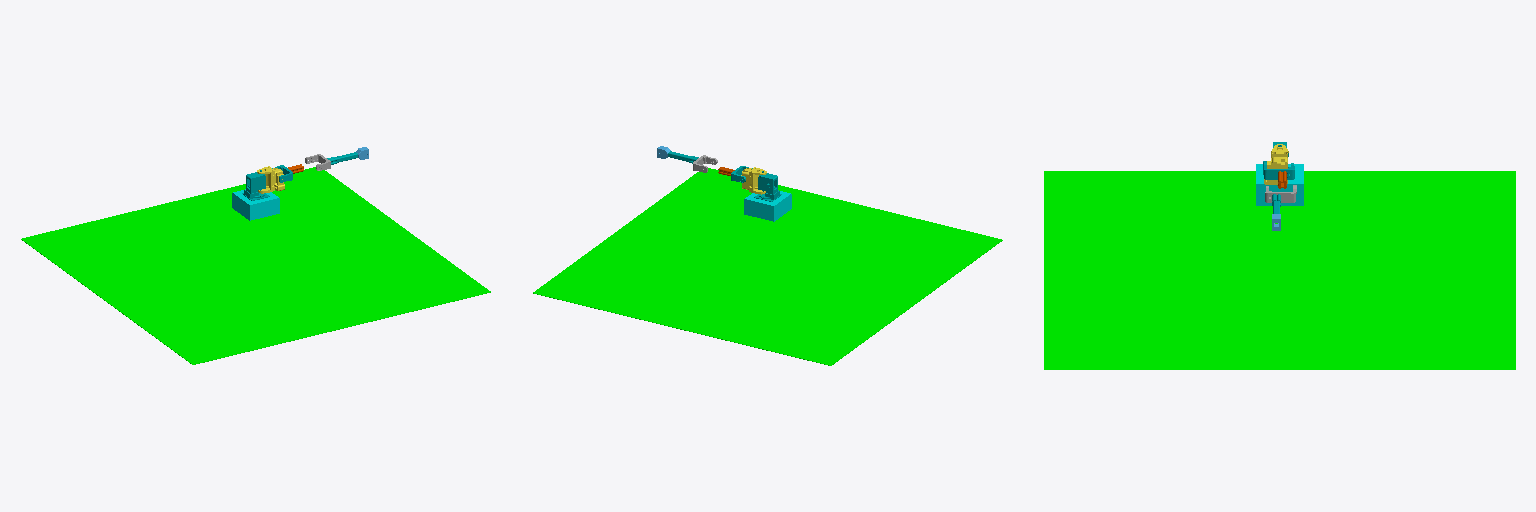
The robot description file, URDF, robot "my_robot":
<robot name="my_robot">

	<!-- * * * Link Definitions * * * -->
	<link name="ground">
		<visual>
		    <origin xyz="0 0 0" rpy="0 0 0"/>
			<geometry>
				<box size="1 1 0.001"/>
			</geometry>
			<material name="Green">
	       		<color rgba="0 1 0 1.0"/>
	     	</material>
		</visual>
	</link>

 	<link name="base_link">
		<visual>
		    <origin xyz="0 0 0.2" rpy="0 0 0"/>
			<geometry>
				<box size="0.1 0.1 0.05"/>
			</geometry>
			<material name="Cyan1">
	       		<color rgba="0 0.9 0.9 1.0"/>
	     	</material>
		</visual>
	</link>

	<link name="hip_fixed">
		<visual>
		    <origin xyz="0 0 0.265" rpy="1.5707963 0 0"/>
			<geometry>
				<mesh filename="package://urdf_meshes/hip_joint_inner.stl" scale="0.001 0.001 0.001"/>
			</geometry>
			<material name="Cyan2">
	       		<color rgba="0 0.7 0.7 1.0"/>
	     	</material>
		</visual>
		<collision>
		    <origin xyz="0 0 0.265" rpy="0 0 0"/>
			<geometry>
				<box size="0.06 0.06 0.08"/>
			</geometry>
		</collision>
		<inertial>
			<mass value="10"/>
<!--			kg-->
		    <inertia ixx="42607620" ixy="-4088140" ixz="-30097.001953" iyy="26167242" iyz="44556.851562" izz="52202032"/>
		</inertial>
	</link>

	<link name="hip">
		<visual>
		    <origin xyz="0.029 -0.0085 0.008" rpy="-1.5707963 0 1.5707963"/>
			<geometry>
				<mesh filename="package://urdf_meshes/hip_joint_outer.stl" scale="0.001 0.001 0.001"/>
			</geometry>
		</visual>
		<collision>
		    <origin xyz="0.03 0 0" rpy="0 0 0"/>
			<geometry>
				<box size="0.08 0.05 0.08"/>
			</geometry>
		</collision>
		<inertial>
			<mass value="10"/>
<!--			kg-->
		    <inertia ixx="5386398597120" ixy="169352544256" ixz="-351662374912" iyy="3678570807296" iyz="47239176192" izz="4580952244224"/>
		</inertial>
	</link>

	<link name="hip_joint">
		<visual>
		    <origin xyz="0.01448 0 -0.000" rpy="3.145968 0 3.145968"/>
			<geometry>
				<mesh filename="package://urdf_meshes/hip_servo_side.stl" scale="0.001 0.001 0.001"/>
<!--				the length includes the length of the screw-->
			</geometry>
			<material name="Cyan2">
	       		<color rgba="0 0.7 0.7 1.0"/>
	     	</material>
		</visual>
		<collision>
		    <origin xyz="0.017 0.005 0" rpy="0 1.5707963 1.5707963"/>
			<geometry>
				<cylinder length="0.08" radius="0.025"/>
<!--				the length includes the length of the screw-->
			</geometry>
		</collision>
		<inertial>
			<mass value="10"/>
<!--			kg-->
		    <inertia ixx="42607620" ixy="-4088140" ixz="-30097.001953" iyy="26167242" iyz="44556.851562" izz="52202032"/>
		</inertial>
	</link>

	<link name="femur">
		<visual>
		    <origin xyz="-0.003 0 0" rpy="0 0 0"/>
			<geometry>
				<mesh filename="package://urdf_meshes/leg_piece_sleeve_50.stl" scale="0.001 0.001 0.001"/>
			</geometry>
<!--			<material name="Cyan2">-->
<!--	       		<color rgba="0 0.7 0.7 1.0"/>-->
<!--	     	</material>-->
		</visual>
		<collision>
		    <origin xyz="0 0 0" rpy="0 0 0"/>
			<geometry>
				<box size="0.050 0.02 0.02"/>
			</geometry>
		</collision>
		<inertial>
			<mass value="10"/>
<!--			kg-->
		    <inertia ixx="42607620" ixy="-4088140" ixz="-30097.001953" iyy="26167242" iyz="44556.851562" izz="52202032"/>
		</inertial>
	</link>

	<link name="uknee">
		<visual>
		    <origin xyz="-0.005 -0.0005 0" rpy="0 -1.5707963 -1.5707963"/>
			<geometry>
				<mesh filename="package://urdf_meshes/servo_holder_knee.stl" scale="0.001 0.001 0.001"/>
			</geometry>
			<material name="Cyan2">
	       		<color rgba="0 0.7 0.7 1.0"/>
	     	</material>
		</visual>
		<collision>
		    <origin xyz="0 0 0" rpy="0 0 0"/>
			<geometry>
				<box size="0.055 0.05 0.04"/>
			</geometry>
		</collision>
		<inertial>
			<mass value="10"/>
<!--			kg-->
		    <inertia ixx="42607620" ixy="-4088140" ixz="-30097.001953" iyy="26167242" iyz="44556.851562" izz="52202032"/>
		</inertial>
	</link>

	<link name="lknee">
		<visual>
		    <origin xyz="0.014 -0.005 0" rpy="3.145968 3.145968 0"/>
			<geometry>
				<mesh filename="package://urdf_meshes/hip_servo_side.stl" scale="0.001 0.001 0.001"/>
<!--				the length includes the length of the screw-->
			</geometry>
		</visual>
		<collision>
		    <origin xyz="0.01 0 0" rpy="0 1.5707963 1.5707963"/>
			<geometry>
				<cylinder length="0.07" radius="0.025"/>
<!--				the length includes the length of the screw-->
			</geometry>
		</collision>
		<inertial>
			<mass value="10"/>
<!--			kg-->
		    <inertia ixx="42607620" ixy="-4088140" ixz="-30097.001953" iyy="26167242" iyz="44556.851562" izz="52202032"/>
		</inertial>
	</link>

	<link name="tibia">
		<visual>
		    <origin xyz="0 0 0" rpy="0 0 -1.5707963"/>
			<geometry>
				<mesh filename="package://urdf_meshes/leg_piece_lower.stl" scale="0.001 0.001 0.001"/>
<!--				the length includes the length of the screw-->
			</geometry>
			<material name="Cyan2">
	       		<color rgba="0 0.7 0.7 1.0"/>
	     	</material>
		</visual>
		<collision>
		    <origin xyz="0 0 0" rpy="0 0 0"/>
			<geometry>
				<box size="0.1 0.02 0.02"/>
			</geometry>
		</collision>
		<inertial>
			<mass value="10"/>
<!--			kg-->
		    <inertia ixx="42607620" ixy="-4088140" ixz="-30097.001953" iyy="26167242" iyz="44556.851562" izz="52202032"/>
		</inertial>
	</link>

	<link name="ankle">
		<visual>
		    <origin xyz="0 0 0" rpy="0 -1.5707963 1.5707963"/>
			<geometry>
				<mesh filename="package://urdf_meshes/new_foot.stl" scale="0.001 0.001 0.001"/>
<!--				the length includes the length of the screw-->
			</geometry>
		</visual>
		<collision>
		    <origin xyz="0 0 0" rpy="0 0 0"/>
			<geometry>
				<box size="0.05 0.03 0.02"/>
			</geometry>
			<material name="Cyan2">
	       		<color rgba="0 0.7 0.7 1.0"/>
	     	</material>
		</collision>
		<inertial>
			<mass value="10"/>
<!--			kg-->
		    <inertia ixx="42607620" ixy="-4088140" ixz="-30097.001953" iyy="26167242" iyz="44556.851562" izz="52202032"/>
		</inertial>
	</link>

	<link name="foot">
		<visual>
		    <origin xyz="0.0145 0 0" rpy="0 0 -1.5707963"/>
			<geometry>
				<mesh filename="package://urdf_meshes/FOOT_PART2.stl" scale="0.001 0.001 0.001"/>
<!--				the length includes the length of the screw-->
			</geometry>
			<material name="Cyan2">
	       		<color rgba="0 0.7 0.7 1.0"/>
	     	</material>
		</visual>
		<collision>
		    <origin xyz="0.01 0 0" rpy="0 0 0"/>
			<geometry>
				<cylinder length="0.02" radius="0.015"/>
<!--				the length includes the length of the screw-->
			</geometry>
			<material name="Cyan2">
	       		<color rgba="0 0.7 0.7 1.0"/>
	     	</material>
		</collision>
		<inertial>
			<mass value="10"/>
<!--			kg-->
		    <inertia ixx="42607620" ixy="-4088140" ixz="-30097.001953" iyy="26167242" iyz="44556.851562" izz="52202032"/>
		</inertial>
	</link>




	<!-- * * * Joint Definitions * * * -->

	<joint name="ground_base" type="fixed">
    	<parent link="ground"/>
    	<child link="base_link"/>
    	<origin xyz="0 0 0" rpy="0 0 0"/>

	</joint>

	<joint name="base_hip1" type="fixed">
    	<parent link="base_link"/>
    	<child link="hip_fixed"/>
    	<origin xyz="0 0 0" rpy="0 0 0"/>

	</joint>

	<joint name="hip1_hip2" type="revolute">
    	<parent link="hip_fixed"/>
    	<child link="hip"/>
    	<origin xyz="0.016 0 0.265" rpy="0 0 0"/>
		<axis xyz="0 0 1"/>
		<limit lower="-1.3962634" upper="1.3962634" effort="10" velocity="3"/>
	</joint>

	<joint name="hip2_hipjoint" type="revolute">
    	<parent link="hip"/>
    	<child link="hip_joint"/>
    	<origin xyz="0.053 0 0.009" rpy="0 0 0"/>
		<axis xyz="0 1 0"/>
		<limit lower="-1.74532925" upper="0.872664626" effort="10" velocity="3"/>
	</joint>

	<joint name="hip_femur" type="fixed">
    	<parent link="hip_joint"/>
    	<child link="femur"/>
    	<origin xyz="0.067 0.005 0" rpy="0 0 0"/>
	</joint>

	<joint name="femur_uknee" type="fixed">
    	<parent link="femur"/>
    	<child link="uknee"/>
    	<origin xyz="0.050 0 0.005" rpy="0 0 0"/>
<!--		1.1175-->
	</joint>

	<joint name="uknee_lknee" type="revolute">
    	<parent link="uknee"/>
    	<child link="lknee"/>
    	<origin xyz="0.010 0 0" rpy="0 0 0"/>
		<axis xyz="0 1 0"/>
		<limit lower="-1.22173048" upper="1.74532925" effort="10" velocity="3"/>
	</joint>

	<joint name="lknee_tibia" type="fixed">
    	<parent link="lknee"/>
    	<child link="tibia"/>
    	<origin xyz="0.087 -0.012 0" rpy="0 0 0"/>
	</joint>

	<joint name="tibia_ankle" type="fixed">
    	<parent link="tibia"/>
    	<child link="ankle"/>
    	<origin xyz="0.0685 0 0" rpy="0 0 0"/>
	</joint>

	<joint name="ankle_foot" type="fixed">
    	<parent link="ankle"/>
    	<child link="foot"/>
    	<origin xyz="00.015 0 0" rpy="0 0 0"/>
	</joint>


</robot>

--- Facts derived from the render (not from the file) ---
Views: 3 orthographic renders of the robot side by side, from view 1: azimuth 30°, elevation 25°; view 2: azimuth 150°, elevation 25°; view 3: azimuth 270°, elevation 25°.
Model my_robot with 11 links and 10 joints (3 revolute, 7 fixed), rooted at ground, posed every joint at zero.
Visible links, largest first — view 1: ground, base_link; view 2: ground, base_link; view 3: ground, base_link.
Link boxes in pixels (box(x1,y1,x2,y2)): ground: box(21, 167, 490, 364); base_link: box(232, 189, 279, 220); ground: box(533, 168, 1002, 365); base_link: box(744, 191, 791, 221); ground: box(1044, 171, 1515, 369); base_link: box(1256, 164, 1303, 205).
Bounding box of the posed robot: 1 × 1 × 0.304 m (x, y, z).
9 mesh visuals loaded from 8 distinct referenced files (8 binary STL).
